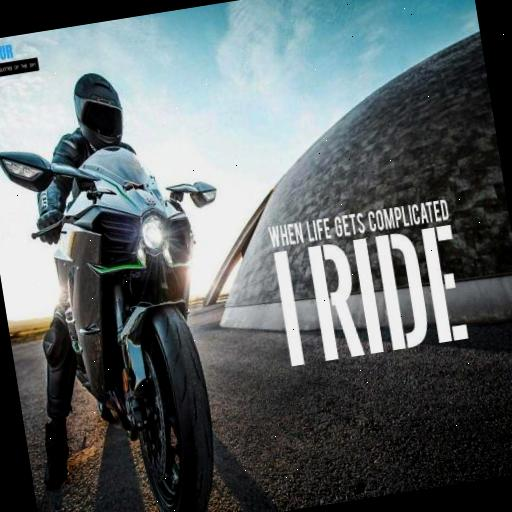helmet: (8, 50, 194, 463)
